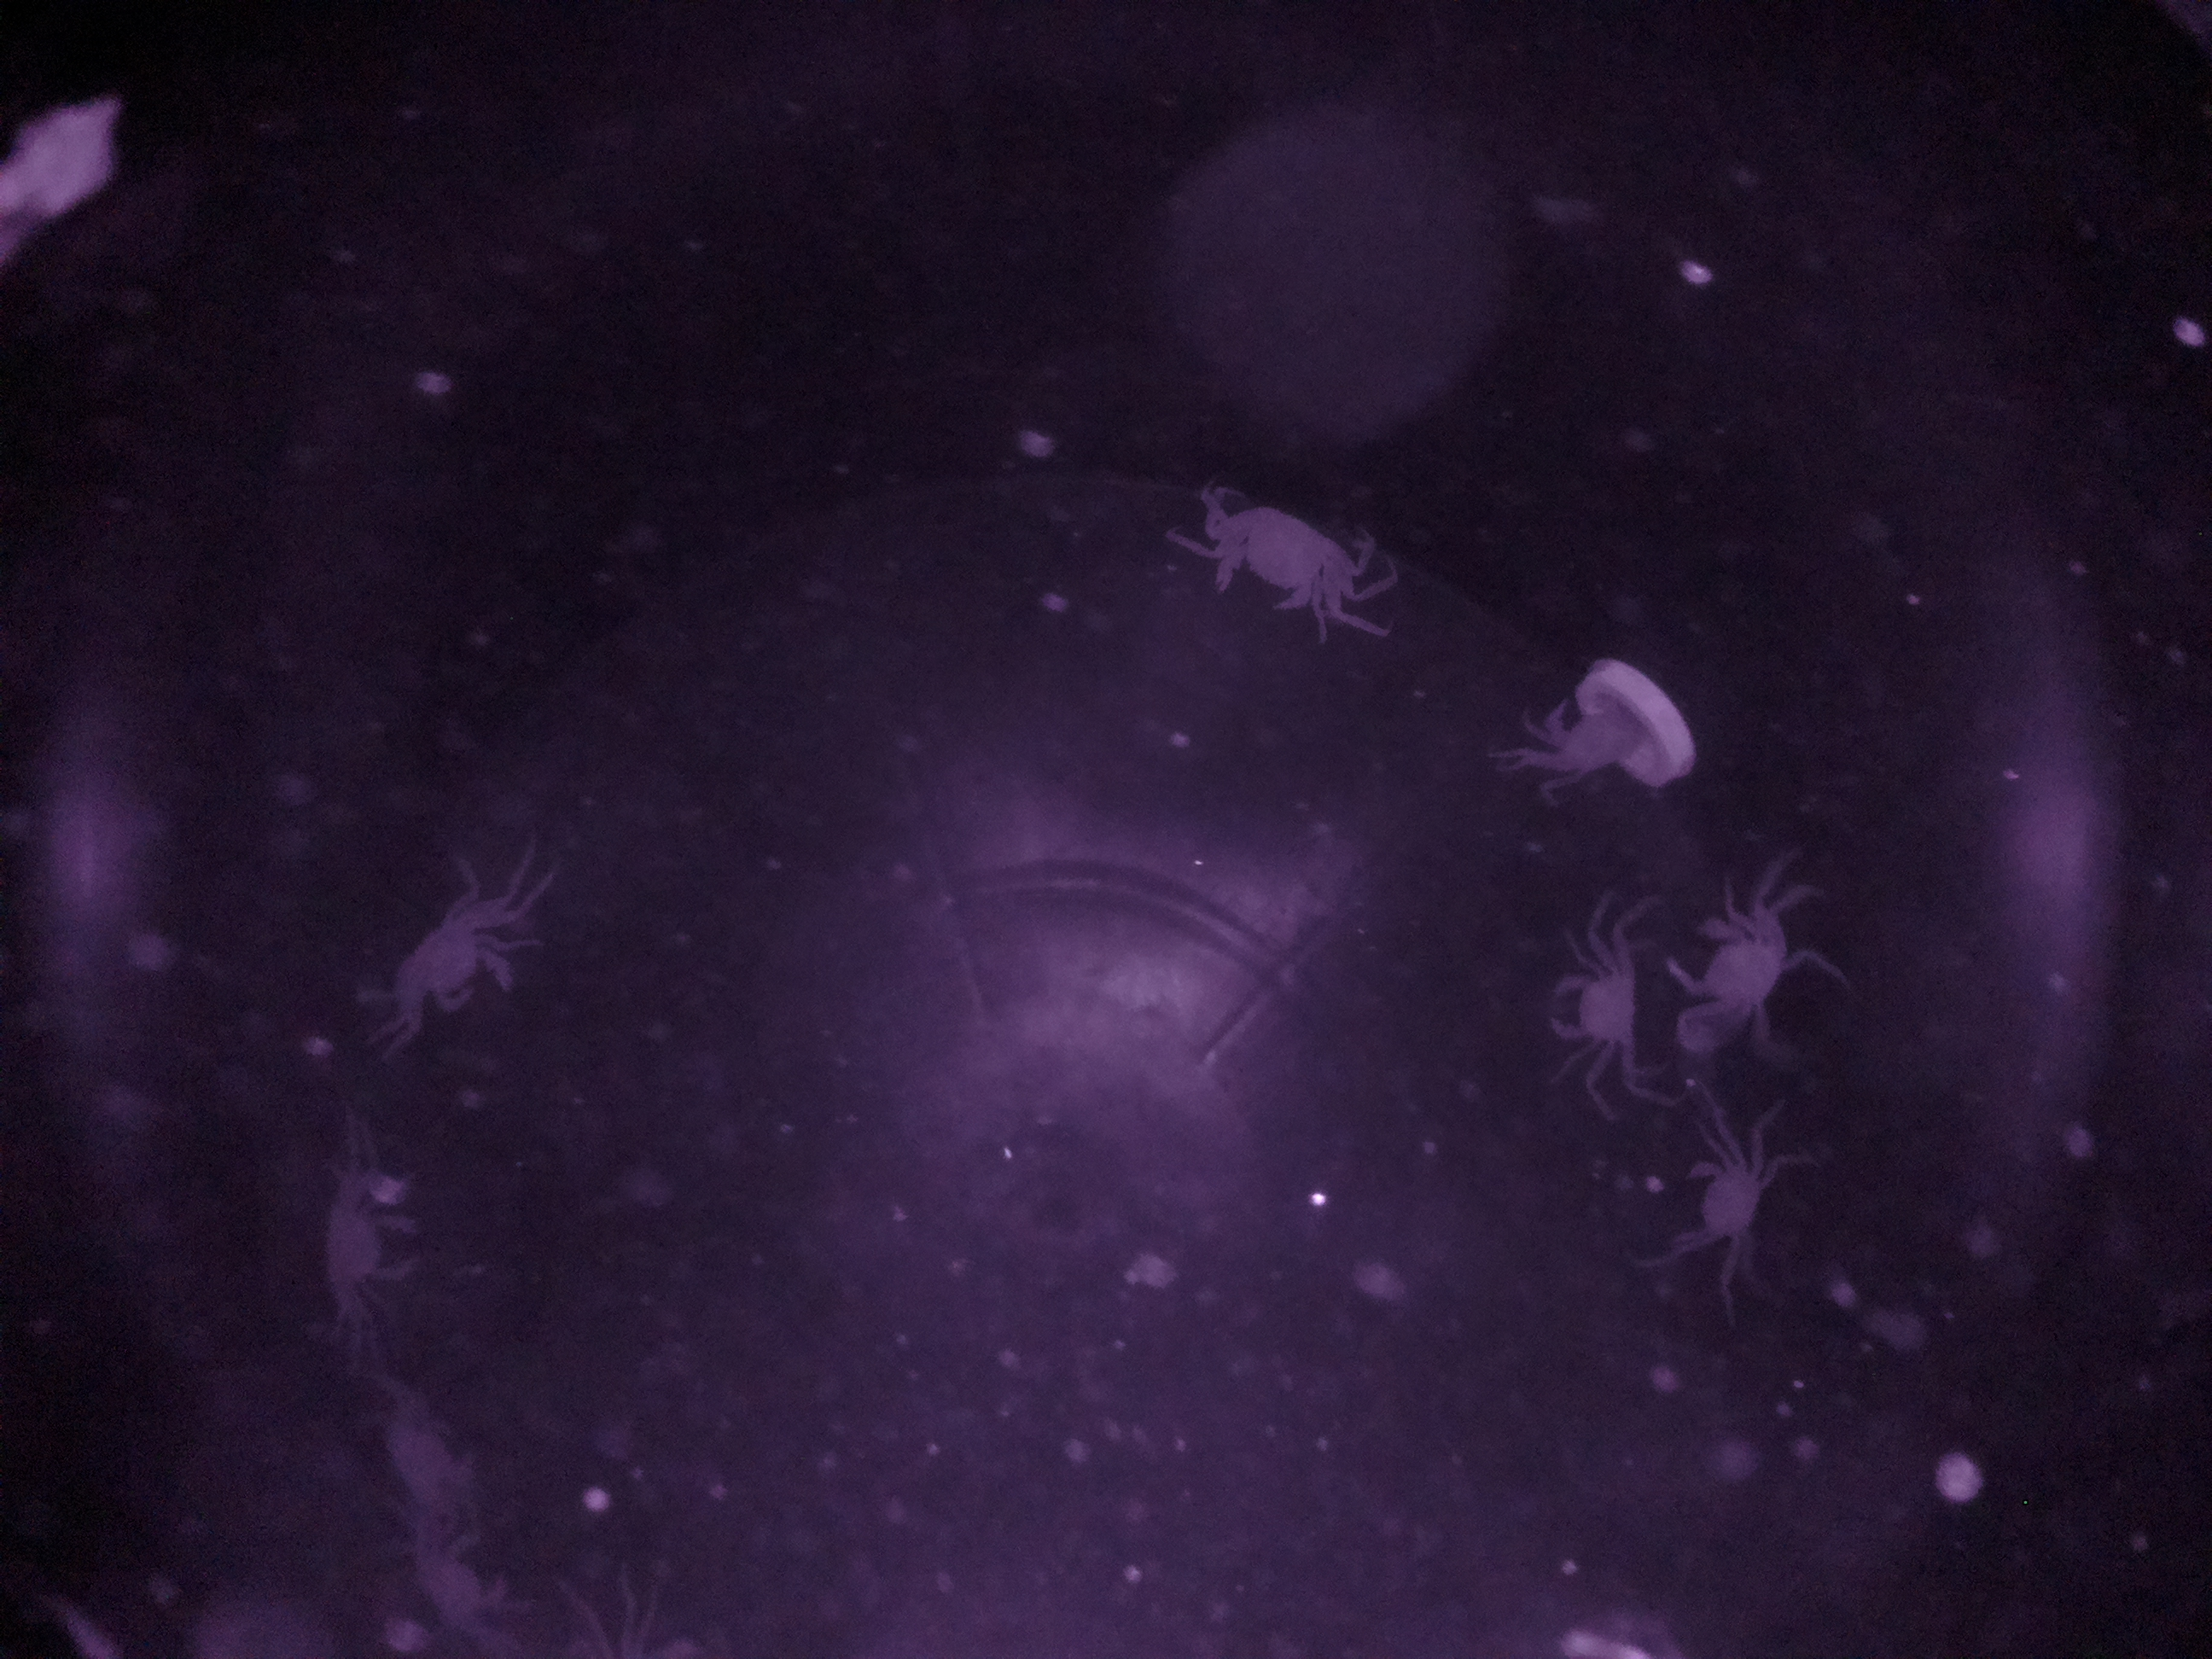Crab: (1184, 460, 1374, 643), (1658, 870, 1832, 1063), (1618, 1121, 1815, 1291), (369, 871, 542, 1051), (1526, 915, 1658, 1087)
